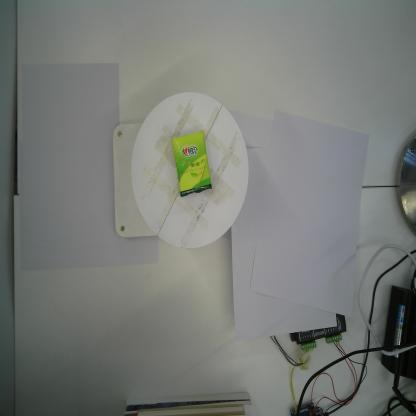Tissue: (172, 129, 212, 198)
